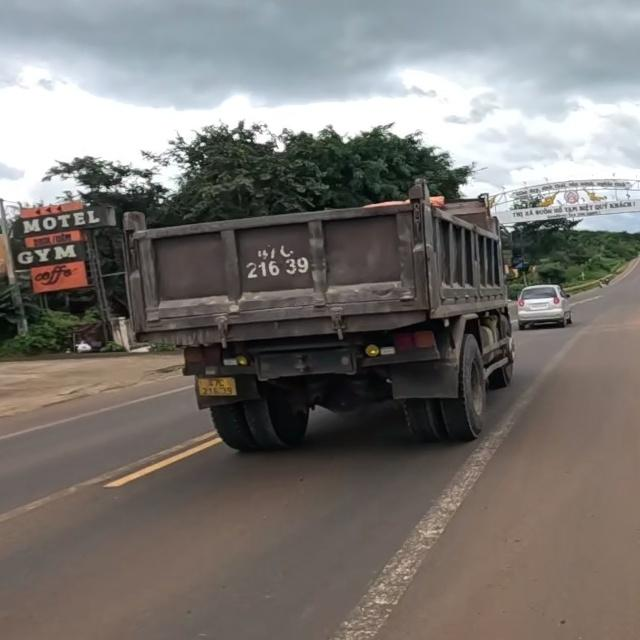license-plate: (197, 376, 238, 397)
